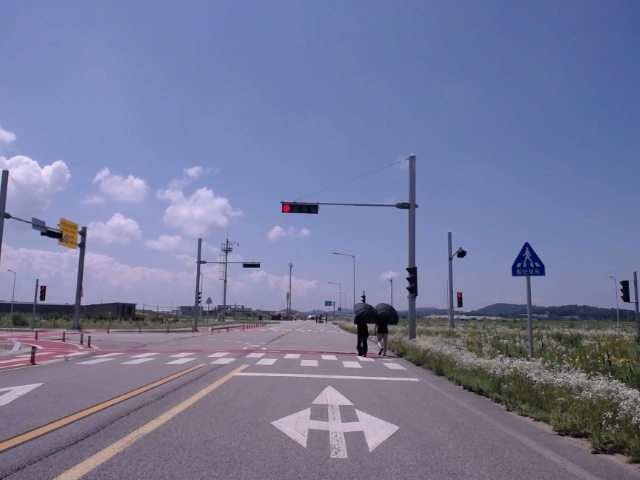red_4: (282, 204, 319, 214)
